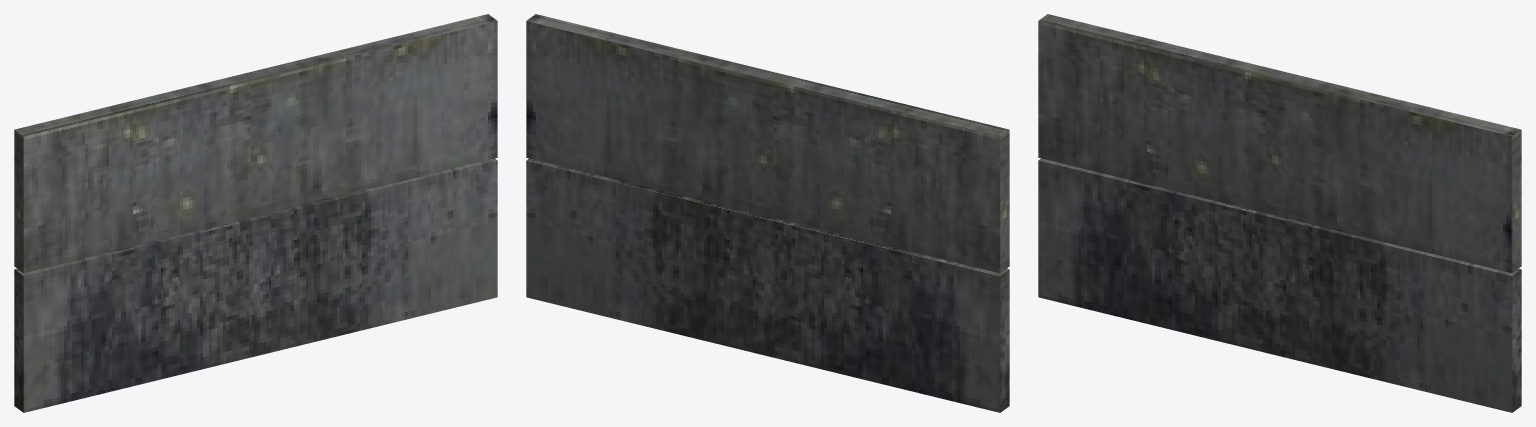
Rendered from lf_plackard_slab_half.glb.
The picture shows the model from 3 angles, left to right: view 1: azimuth 30°, elevation 25°; view 2: azimuth 150°, elevation 25°; view 3: azimuth 330°, elevation 25°; orthographic projection.
Visible parts, largest first — view 1: plackard_slab_half; view 2: plackard_slab_half; view 3: plackard_slab_half.
Part boxes in pixels (left/top/right/bottom): plackard_slab_half: left=14, top=14, right=497, bottom=412; plackard_slab_half: left=526, top=14, right=1009, bottom=412; plackard_slab_half: left=1038, top=14, right=1521, bottom=412.
Size of the model in its own units: 2.9 by 1.62 by 0.0998.
Materials: 1 (1 with a texture image).
